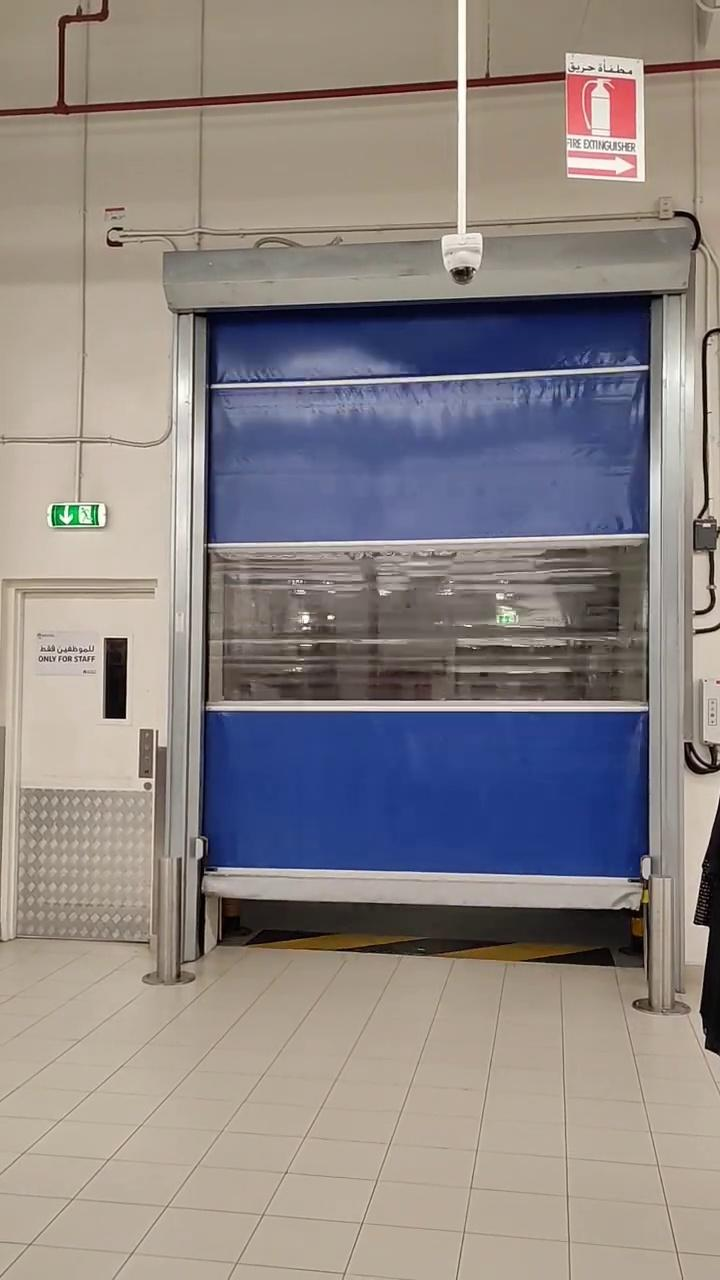Strip: (246, 928, 615, 963)
